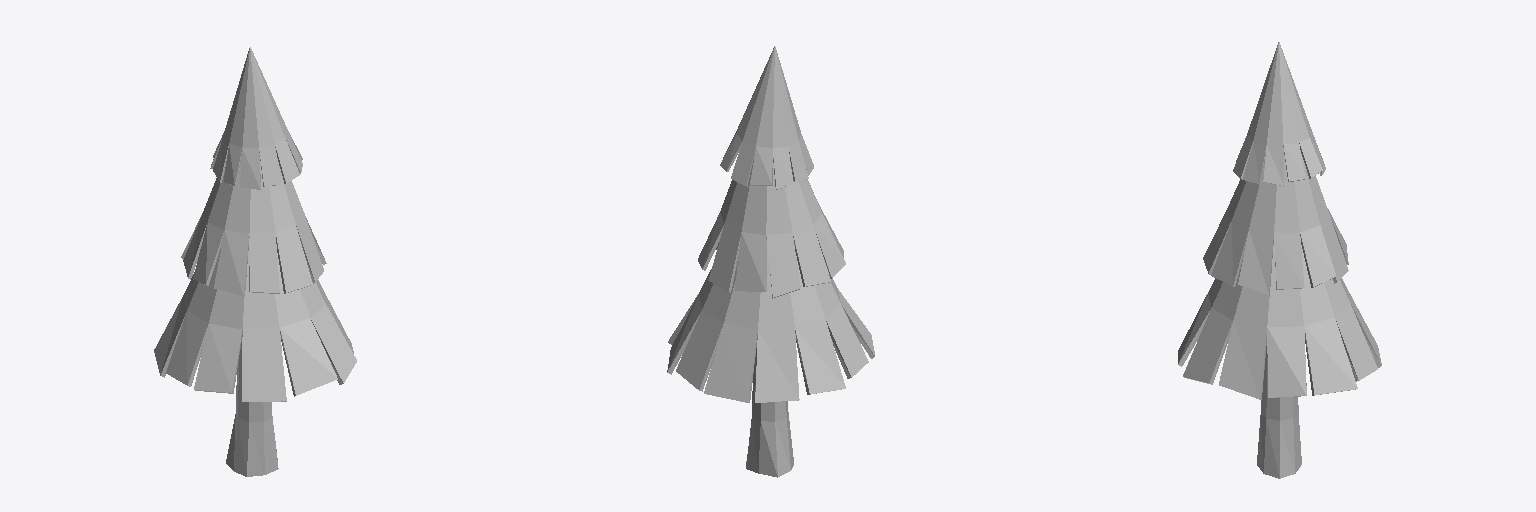
The model's file is mytree6.obj.
3 views of the same model, side by side, from view 1: azimuth 30°, elevation 25°; view 2: azimuth 150°, elevation 25°; view 3: azimuth 270°, elevation 25° (orthographic).
Parts seen in each view (by area): view 1: Tree3_4_Cylinder.029; view 2: Tree3_4_Cylinder.029; view 3: Tree3_4_Cylinder.029.
Boxes of the visible parts, box(x1,y1,x2,y2) form: Tree3_4_Cylinder.029: box(154, 47, 356, 476); Tree3_4_Cylinder.029: box(667, 46, 874, 477); Tree3_4_Cylinder.029: box(1178, 42, 1381, 478).
Size of the model in its own units: 3.85 by 8.96 by 3.91.